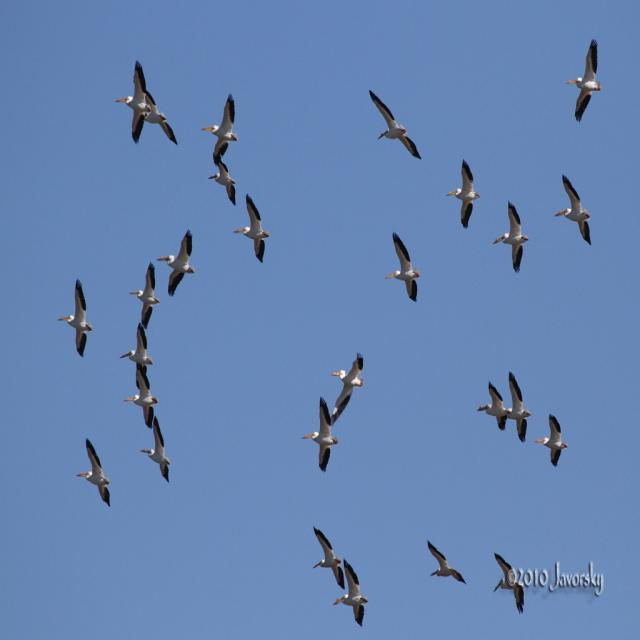bird: (116, 63, 182, 144), (367, 90, 423, 164), (567, 37, 602, 124), (58, 280, 96, 360), (310, 527, 356, 589), (302, 402, 342, 472), (494, 203, 534, 272), (122, 362, 160, 433), (158, 228, 195, 299), (203, 96, 240, 167), (555, 178, 594, 245), (236, 192, 272, 264), (77, 436, 113, 507), (330, 352, 368, 418), (446, 160, 481, 230), (388, 234, 423, 303), (475, 373, 509, 444), (492, 554, 526, 616), (335, 571, 371, 629), (141, 422, 173, 485), (120, 320, 156, 376), (130, 262, 162, 322), (509, 370, 533, 448), (428, 541, 468, 584), (537, 416, 569, 467), (209, 154, 239, 208)
